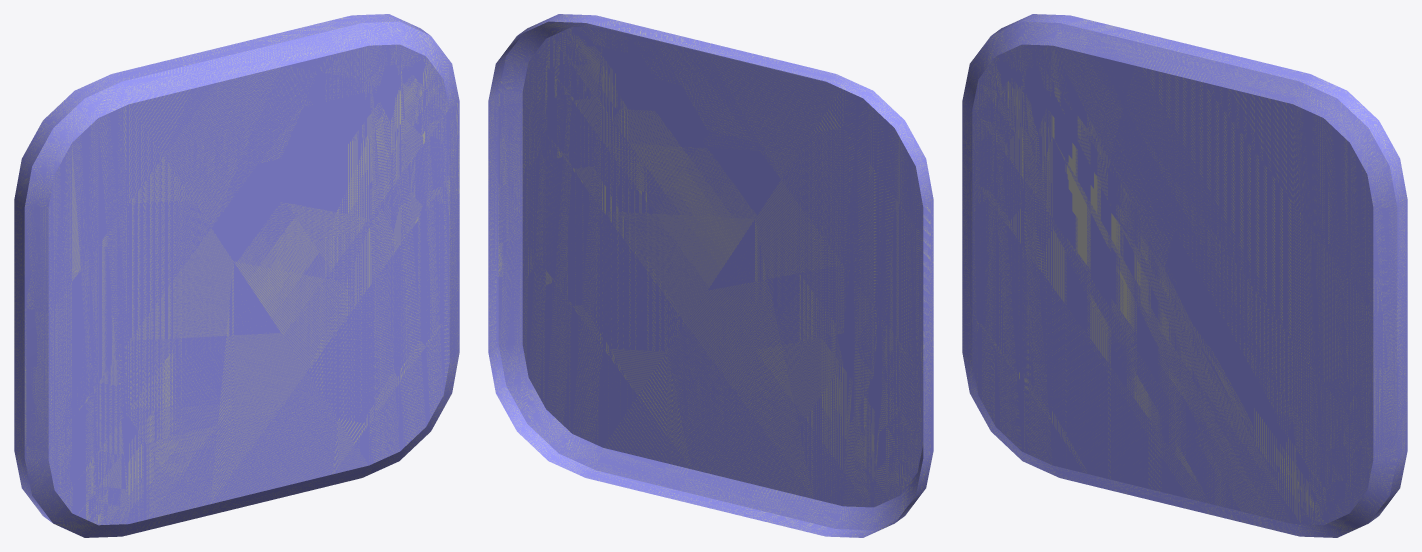
The model's file is original-9.obj.
3 views of the same model, side by side, from view 1: azimuth 30°, elevation 25°; view 2: azimuth 150°, elevation 25°; view 3: azimuth 330°, elevation 25° (orthographic).
Parts seen in each view (by area): view 1: #ID20; view 2: #ID20; view 3: #ID20.
Boxes of the visible parts, box(x1,y1,x2,y2) form: #ID20: box(14, 14, 459, 537); #ID20: box(488, 14, 933, 537); #ID20: box(962, 14, 1407, 537).
Size of the model in its own units: 0.2424 by 0.2424 by 0.0167.
